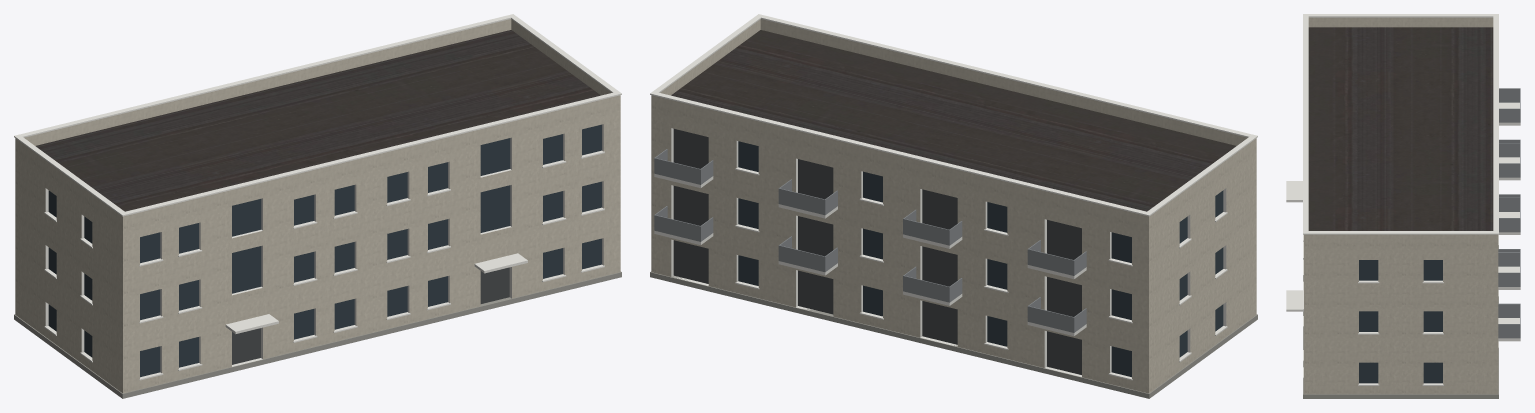
The model's file is walkup-apartments.glb.
3 renders of one model, left to right at view 1: azimuth 30°, elevation 25°; view 2: azimuth 150°, elevation 25°; view 3: azimuth 270°, elevation 25°, orthographic. The views are drawn at different scales.
Visible parts, largest first — view 1: walkup-apartments; view 2: walkup-apartments; view 3: walkup-apartments.
Part boxes in pixels (x1=…): walkup-apartments: x1=14, y1=14, x2=621, y2=398; walkup-apartments: x1=650, y1=14, x2=1257, y2=398; walkup-apartments: x1=1286, y1=14, x2=1520, y2=398.
Bounding box in the file's own units: 32.12 × 11.28 × 14.5.
7 materials, 2 textured.
